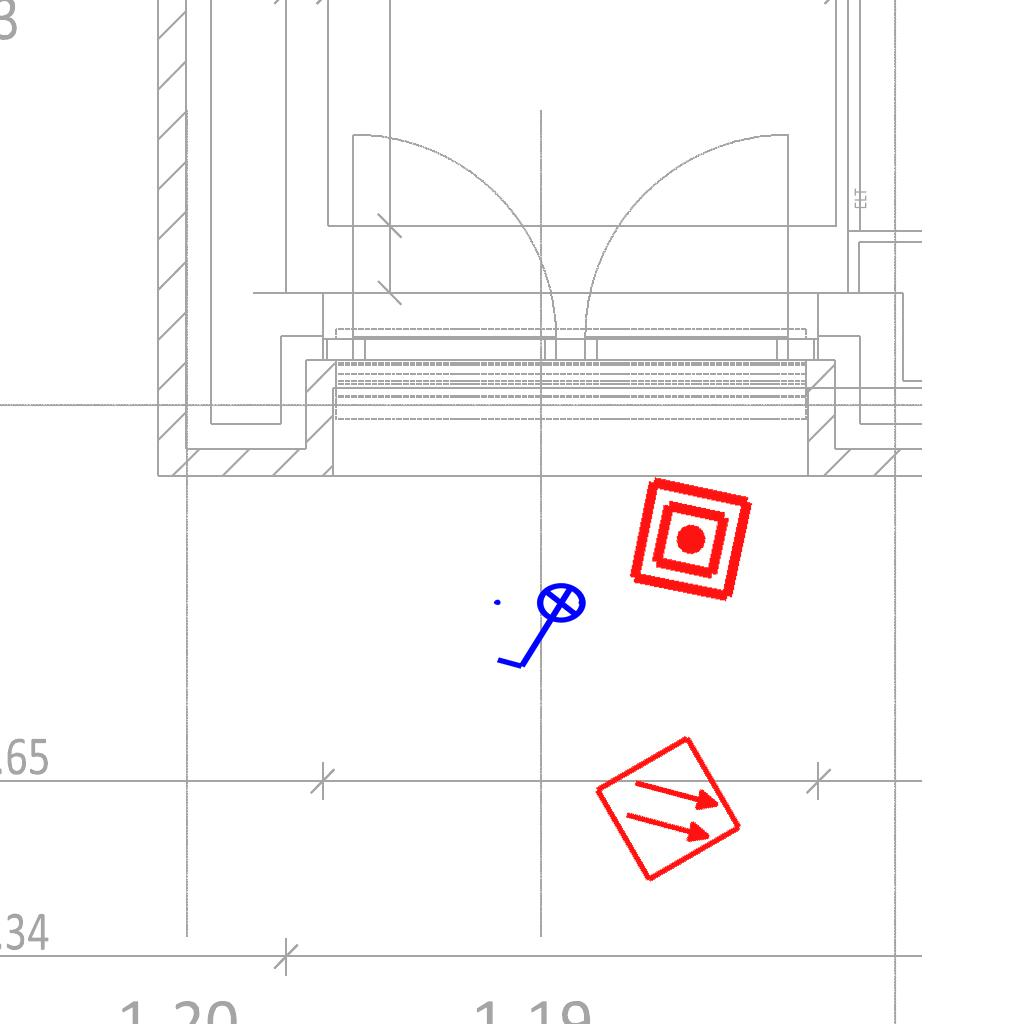Ausschalter_beleuchtet: (488, 581, 600, 677)
NAM-Nichtautomatischer_Melder: (623, 472, 758, 607)
RMO_Rauchmelder_optischer: (591, 731, 746, 886)
